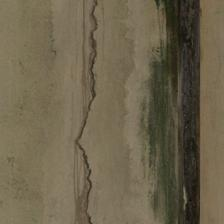Crack: (36, 2, 67, 219)
